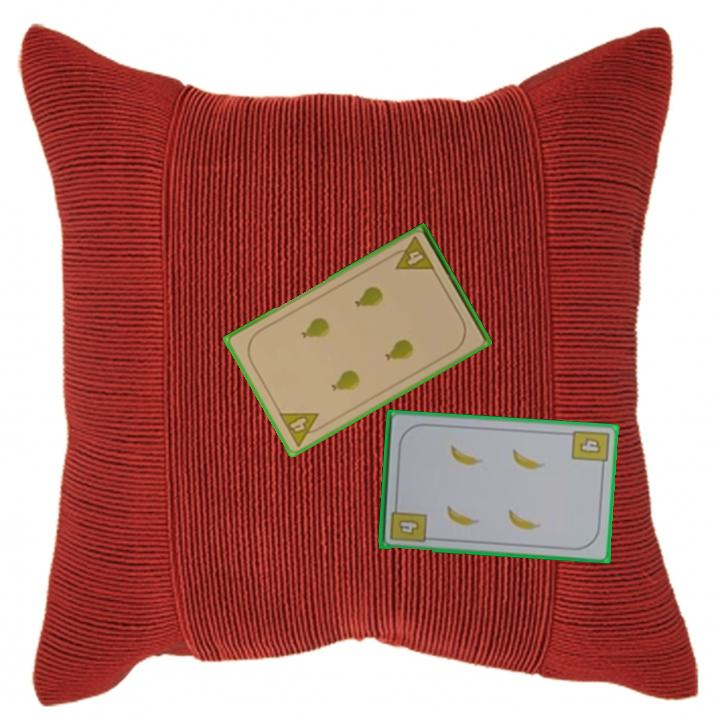4b: (568, 426, 612, 472), (386, 500, 429, 545)
4p: (386, 233, 438, 274), (275, 409, 328, 449)
